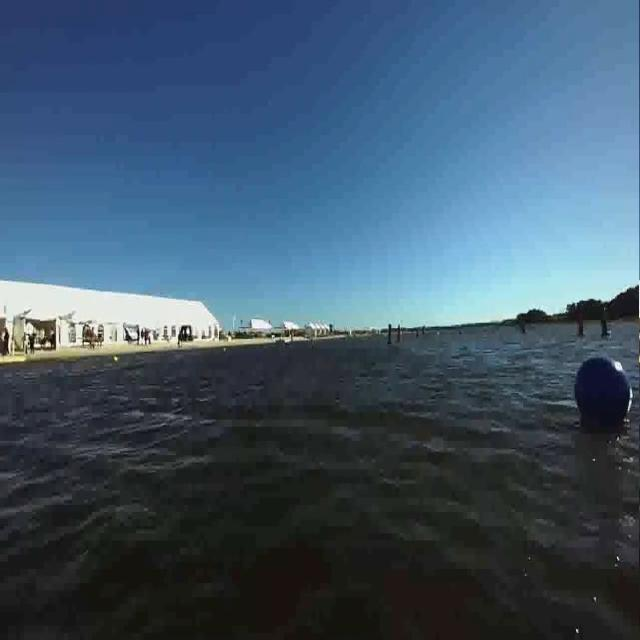black-buoy: (573, 352, 632, 427)
green-column-buoy: (599, 304, 611, 338)
red-column-buoy: (575, 310, 586, 340)
yellow-buoy: (112, 354, 119, 366)
